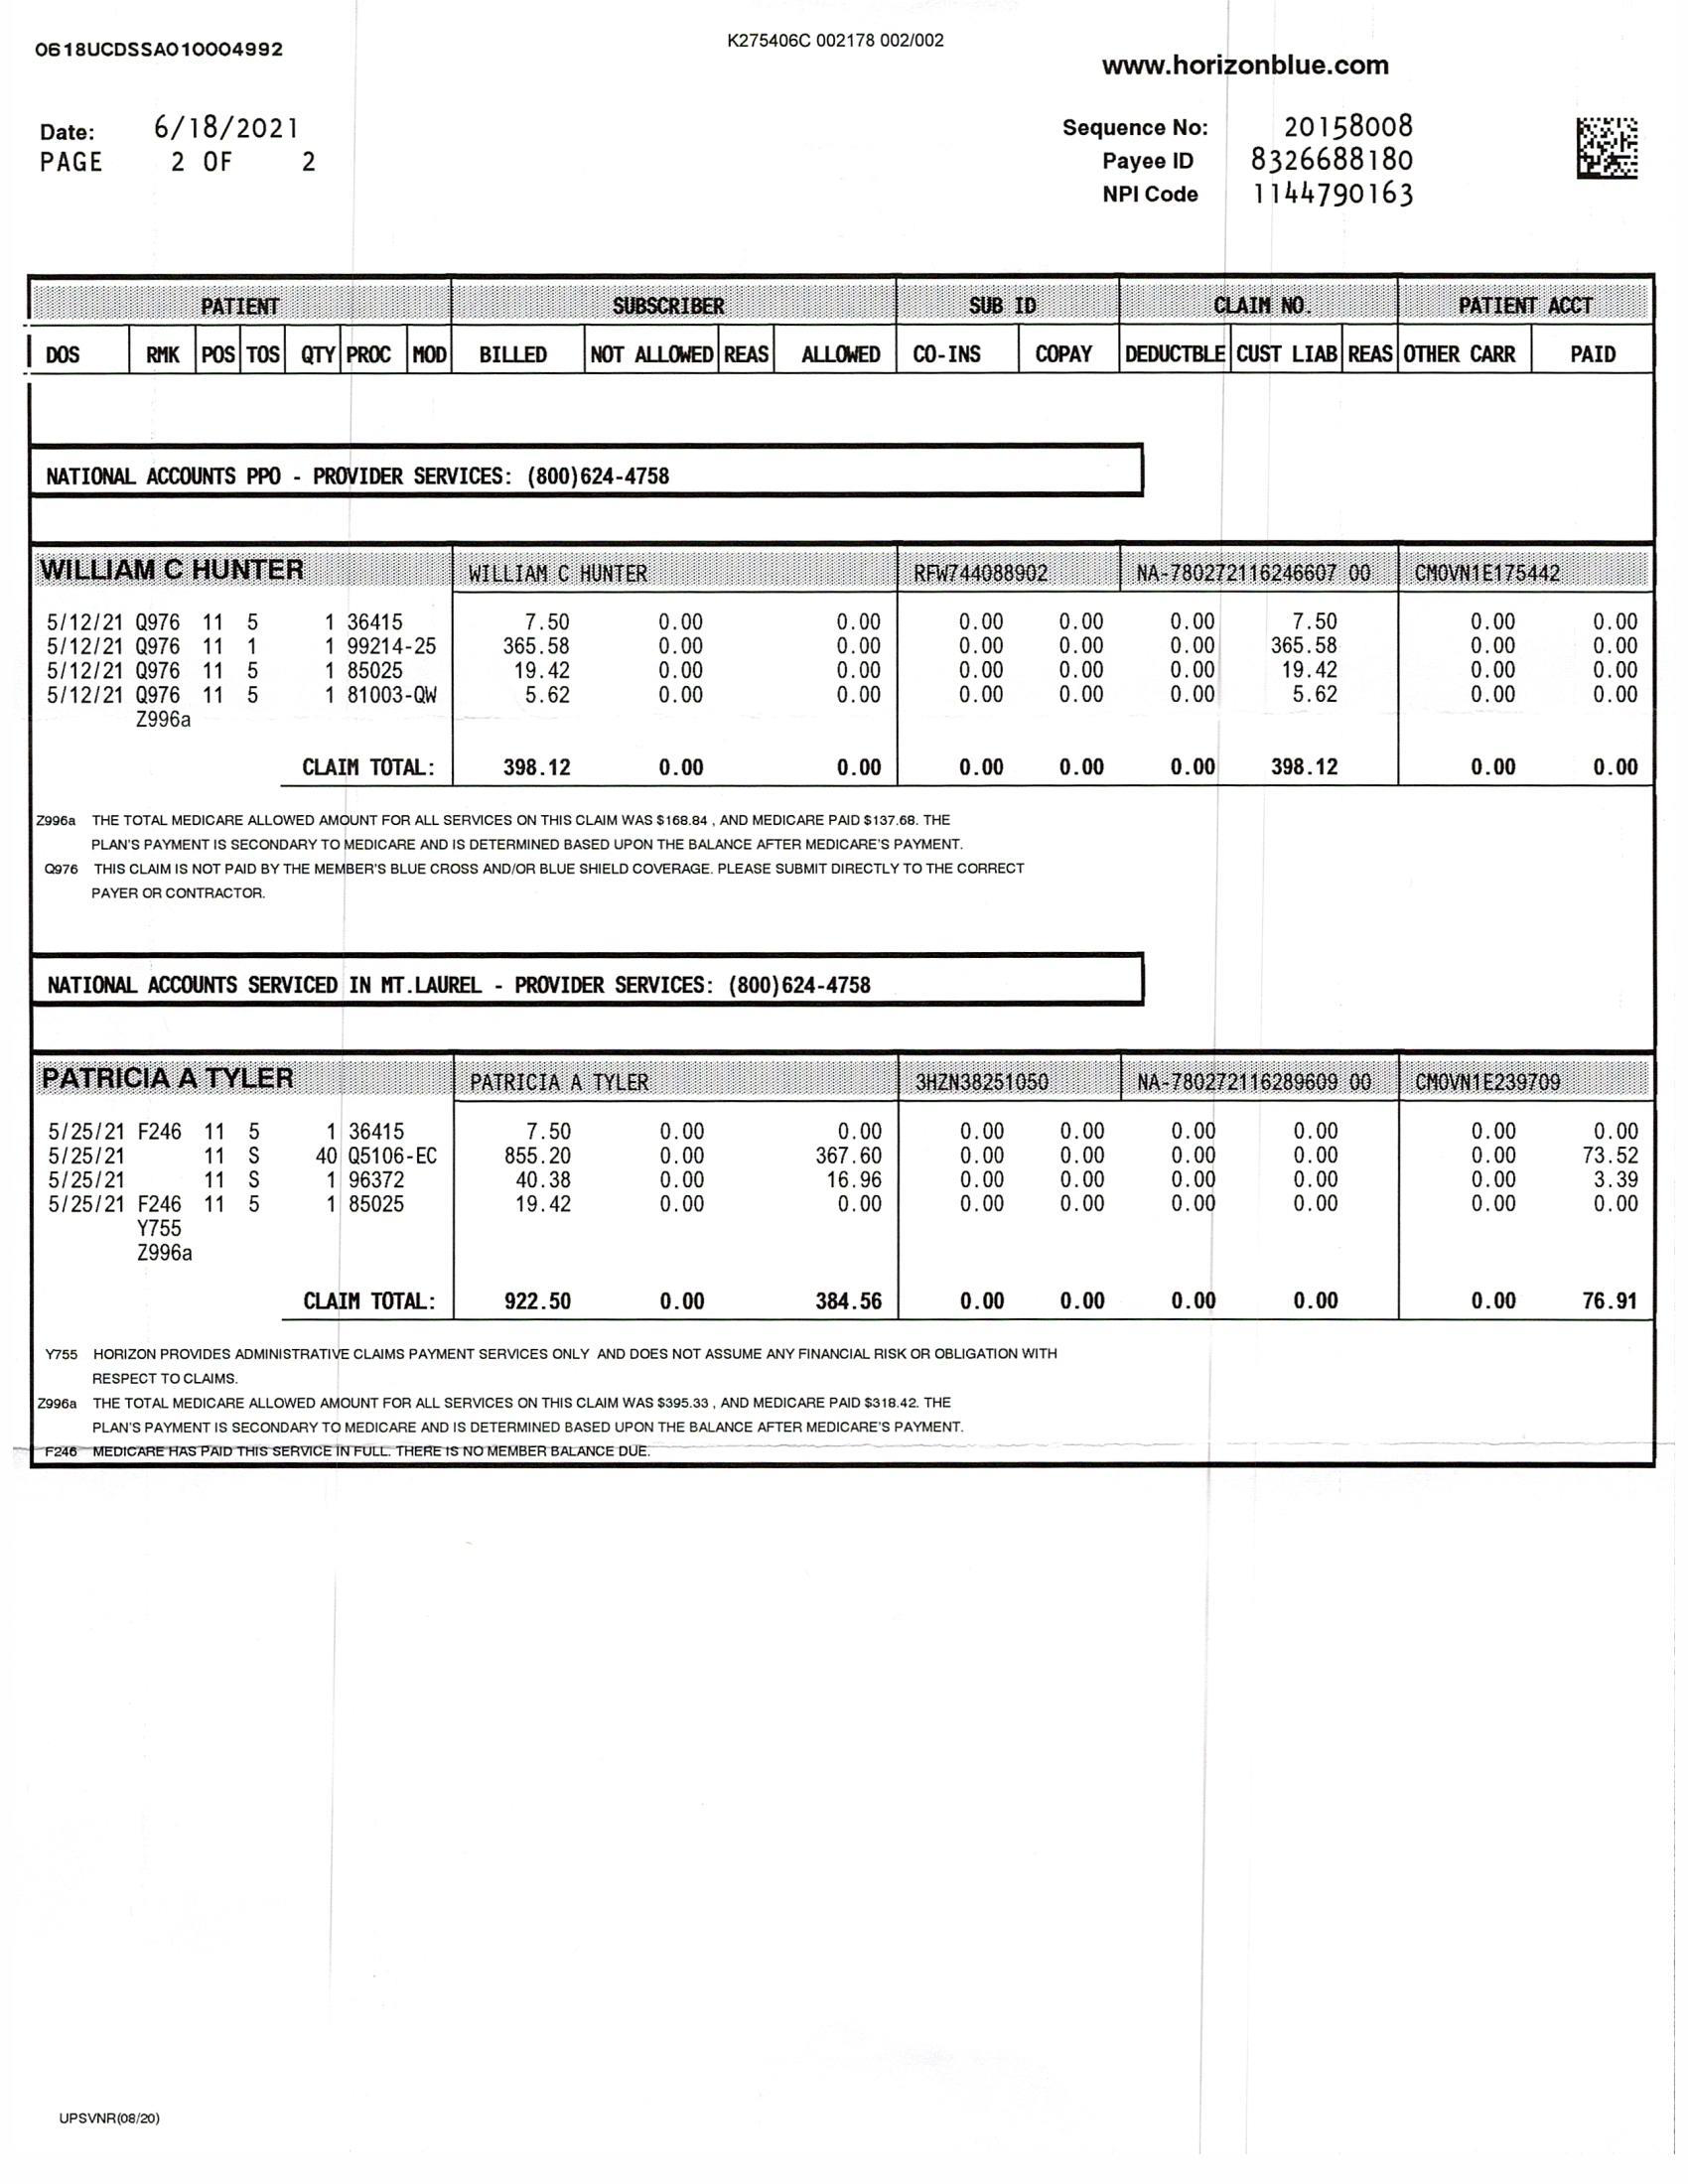data: (1053, 92, 1436, 222)
table: (11, 255, 1670, 799), (21, 1033, 1663, 1340)
